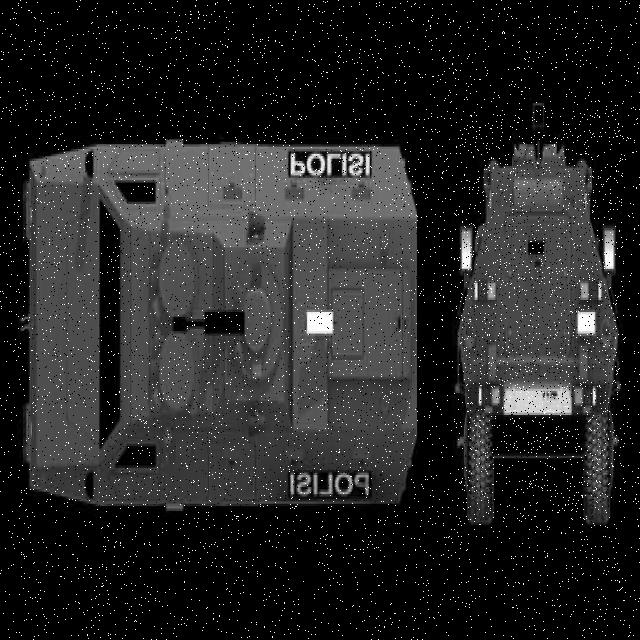MIL_MBT: (25, 136, 416, 530), (460, 108, 625, 511)
